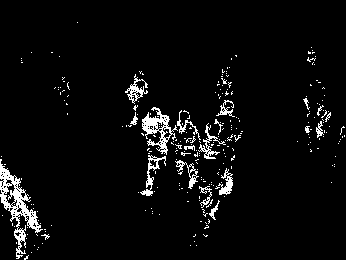person: (194, 119, 227, 225), (139, 103, 172, 204), (172, 107, 199, 193), (217, 101, 246, 167), (126, 71, 149, 121)
